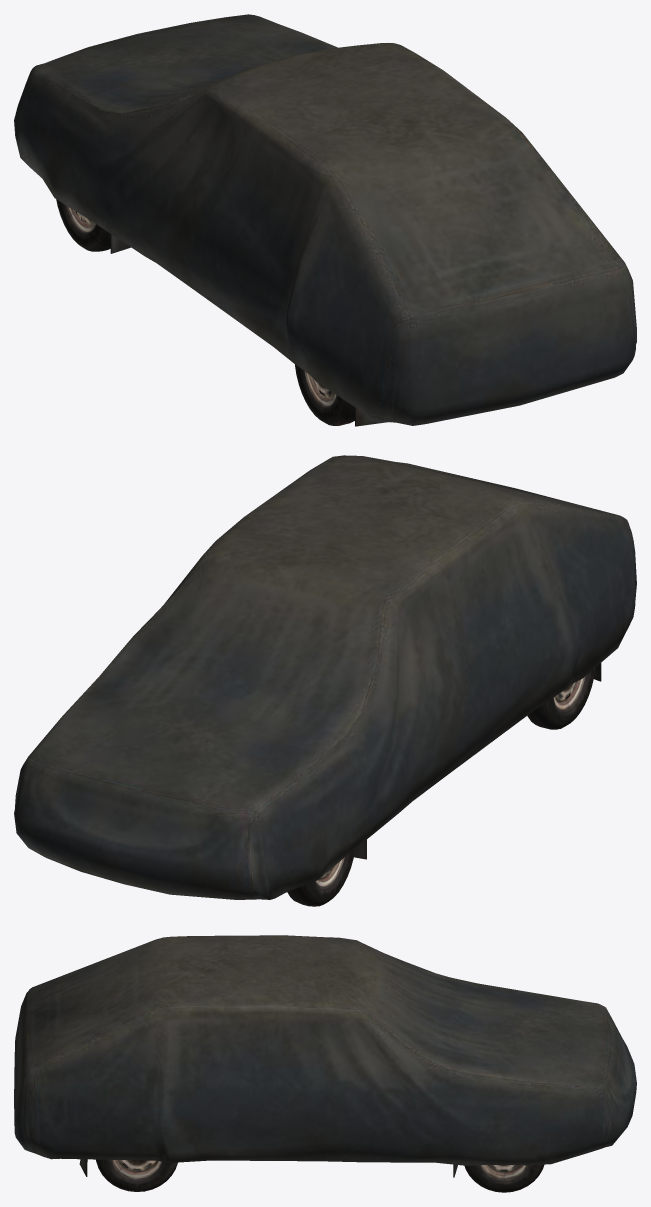
The model's file is car-covered.dd334589.glb.
3 views of the same model, one above another, from view 1: azimuth 30°, elevation 25°; view 2: azimuth 150°, elevation 25°; view 3: azimuth 270°, elevation 25° (orthographic). The views are drawn at different scales.
Visible parts, largest first — view 1: model; view 2: model; view 3: model.
Part boxes in pixels (x1,y1,x2,y2): model: (14, 14, 636, 426); model: (14, 455, 636, 906); model: (14, 935, 636, 1192).
Bounding box in the file's own units: 1.79 × 1.41 × 4.38.
2 materials, 2 textured.
